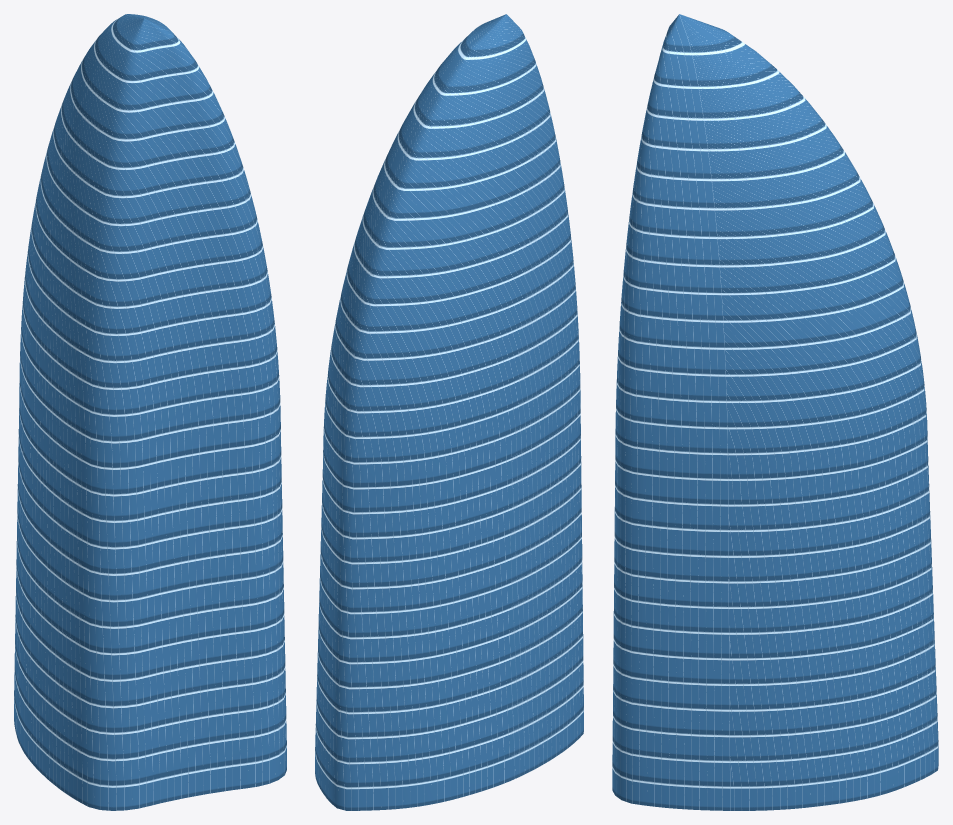
Rendered from landmark-flame-tower-3.glb.
3 renders of one model, left to right at view 1: azimuth 30°, elevation 25°; view 2: azimuth 150°, elevation 25°; view 3: azimuth 270°, elevation 25°, orthographic. The views are drawn at different scales.
Visible parts, largest first — view 1: flame-tower-3; view 2: flame-tower-3; view 3: flame-tower-3.
Boxes of the visible parts, <box> form: flame-tower-3: <box>14,14,286,810</box>; flame-tower-3: <box>315,14,583,810</box>; flame-tower-3: <box>612,14,938,810</box>.
Size of the model in its own units: 44.89 by 159 by 63.95.
1 material, 1 textured.
